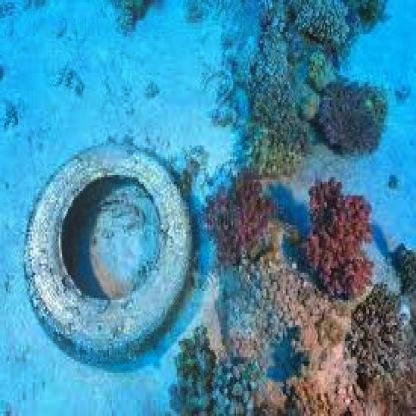tire: (21, 141, 204, 373)
